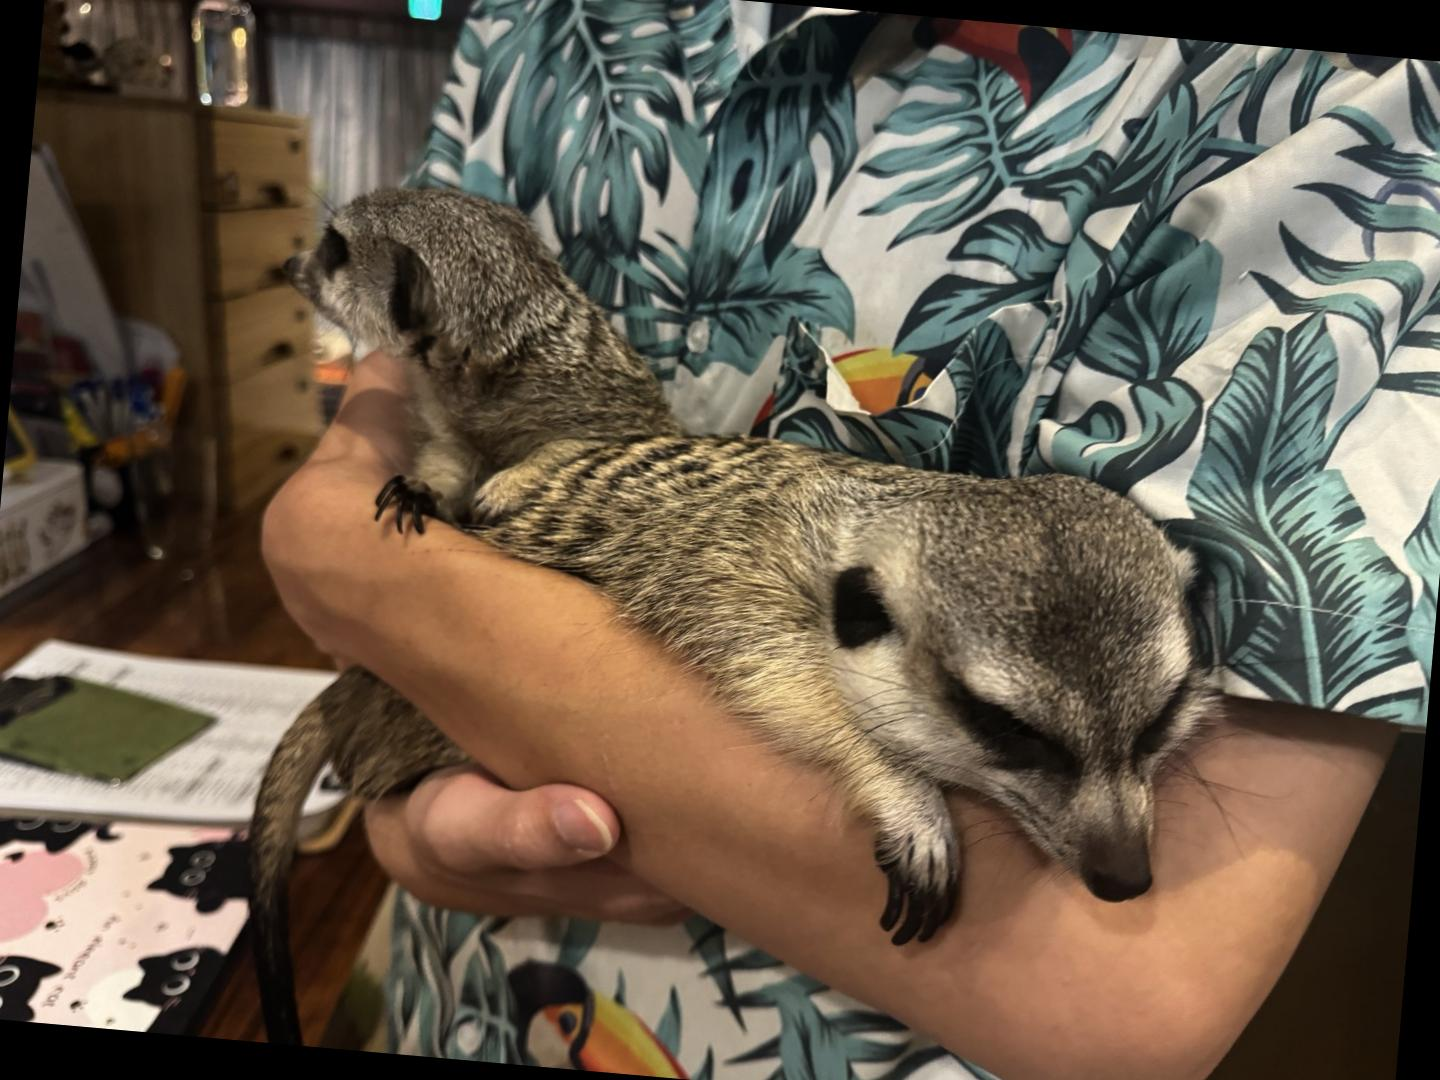meerkat: (222, 388, 1265, 1080), (246, 166, 727, 574)
